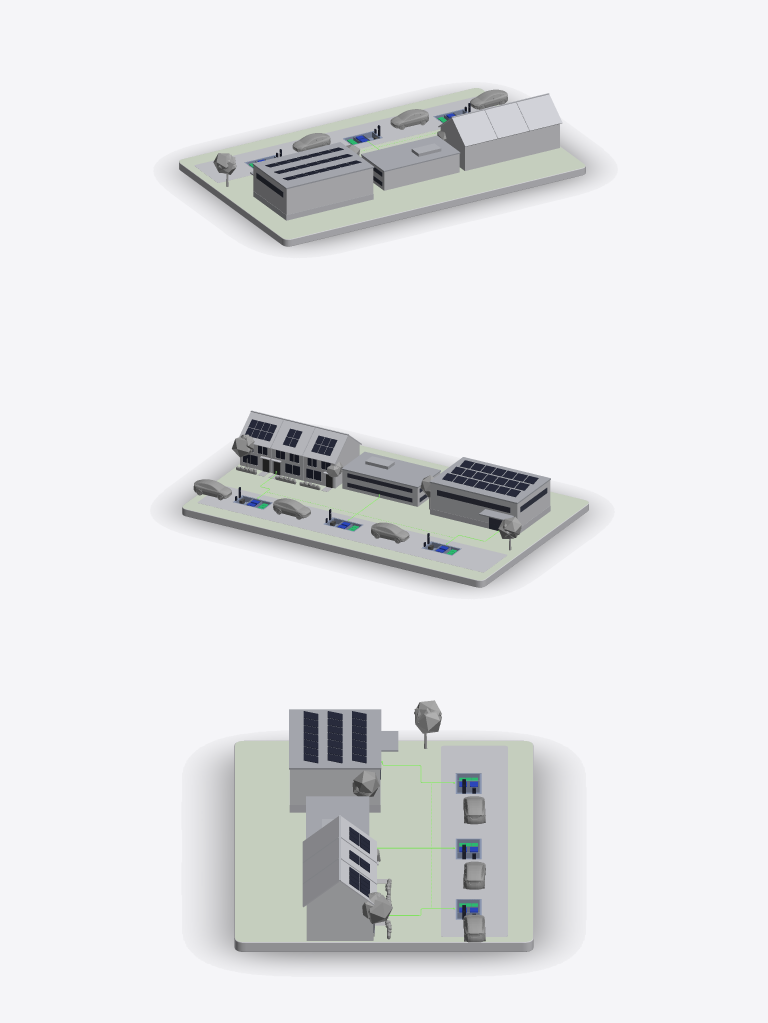
The model's file is sett-scroll-gemeente-wijk.glb.
3 renders of one model, top to bottom at view 1: azimuth 30°, elevation 25°; view 2: azimuth 150°, elevation 25°; view 3: azimuth 270°, elevation 25°, orthographic. The views are drawn at different scales.
Parts seen in each view (by area): view 1: object 109, building (×2), house, contact_shadow, object 110, car (×2); view 2: object 109, building (×2), house, object 110, contact_shadow, car (×3); view 3: object 109, contact_shadow, building (×2), object 110, house, car (×3).
Boxes of the visible parts, x1,y1,x2,y2 form: object 109: [179, 88, 585, 246]; building (×2): [250, 135, 460, 220]; house: [438, 93, 562, 170]; contact_shadow: [178, 97, 592, 247]; object 110: [194, 96, 494, 182]; car (×2): [390, 89, 507, 129]; object 109: [182, 445, 588, 587]; building (×2): [341, 451, 550, 533]; house: [236, 410, 361, 491]; object 110: [197, 486, 507, 572]; contact_shadow: [175, 445, 589, 588]; car (×3): [193, 479, 409, 543]; object 109: [234, 740, 533, 951]; contact_shadow: [213, 753, 554, 963]; building (×2): [289, 709, 398, 838]; object 110: [441, 745, 507, 936]; house: [302, 815, 391, 940]; car (×3): [463, 796, 485, 942].
Bounding box in the file's own units: 6215 × 666 × 6215.
35 materials, 1 textured.
